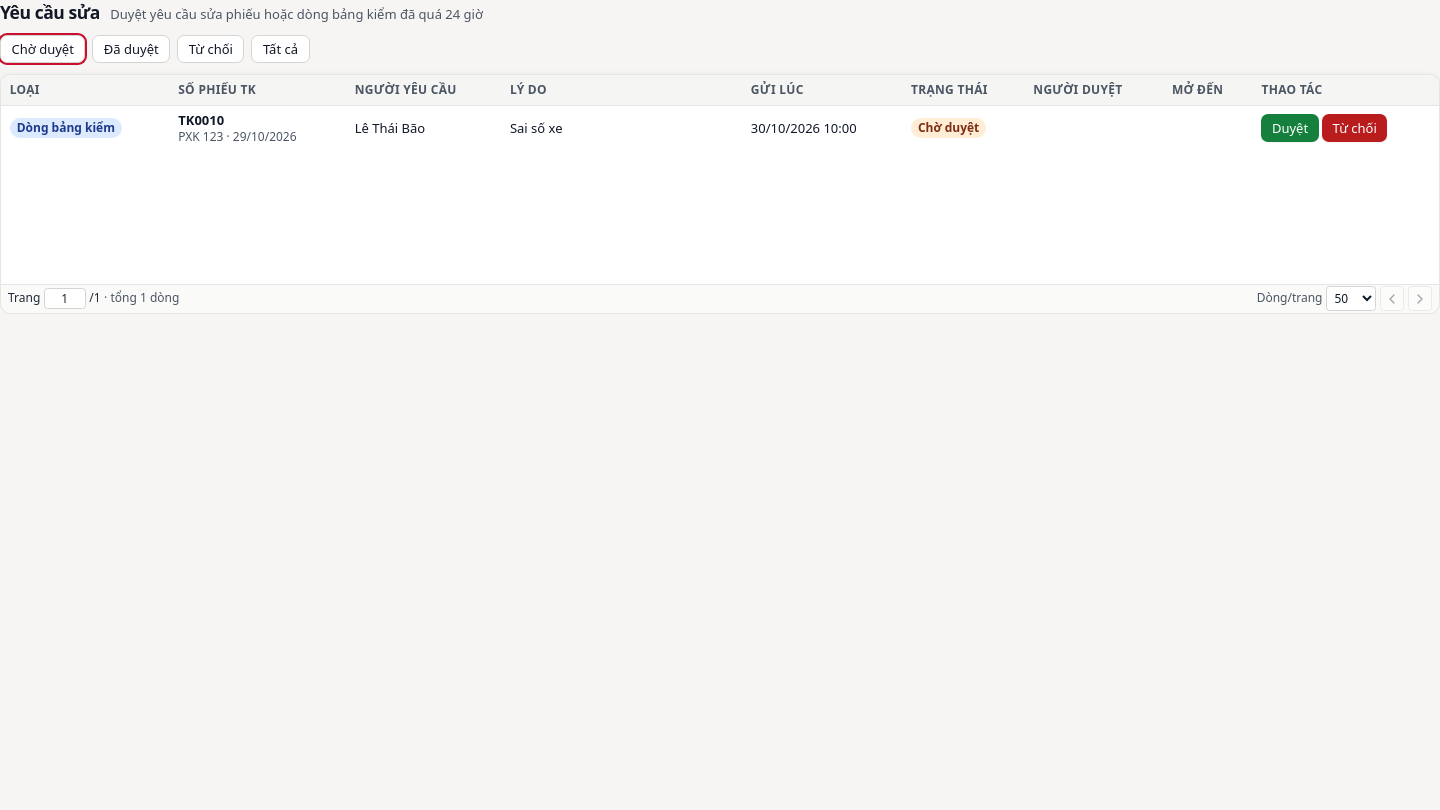
Scenario: EditRequestsPage (D-019) › yêu cầu sửa dòng bảng kiểm: nhãn "Dòng bảng kiểm", TK + PXK + ngày xuất; hộp thoại ghi rõ dòng
The width and height of the screenshot is (1440, 810).
expect the text with test id "kind-1" reads "Dòng bảng kiểm": met, box [17,119,115,136]
expect the text "TK0010" is shown: met, box [178,111,224,129]
What coordinates should you click on to do the following:
click the button with test id "approve-1"
I would click on:
 (1290, 128)
Its box is [1261,114,1319,142].
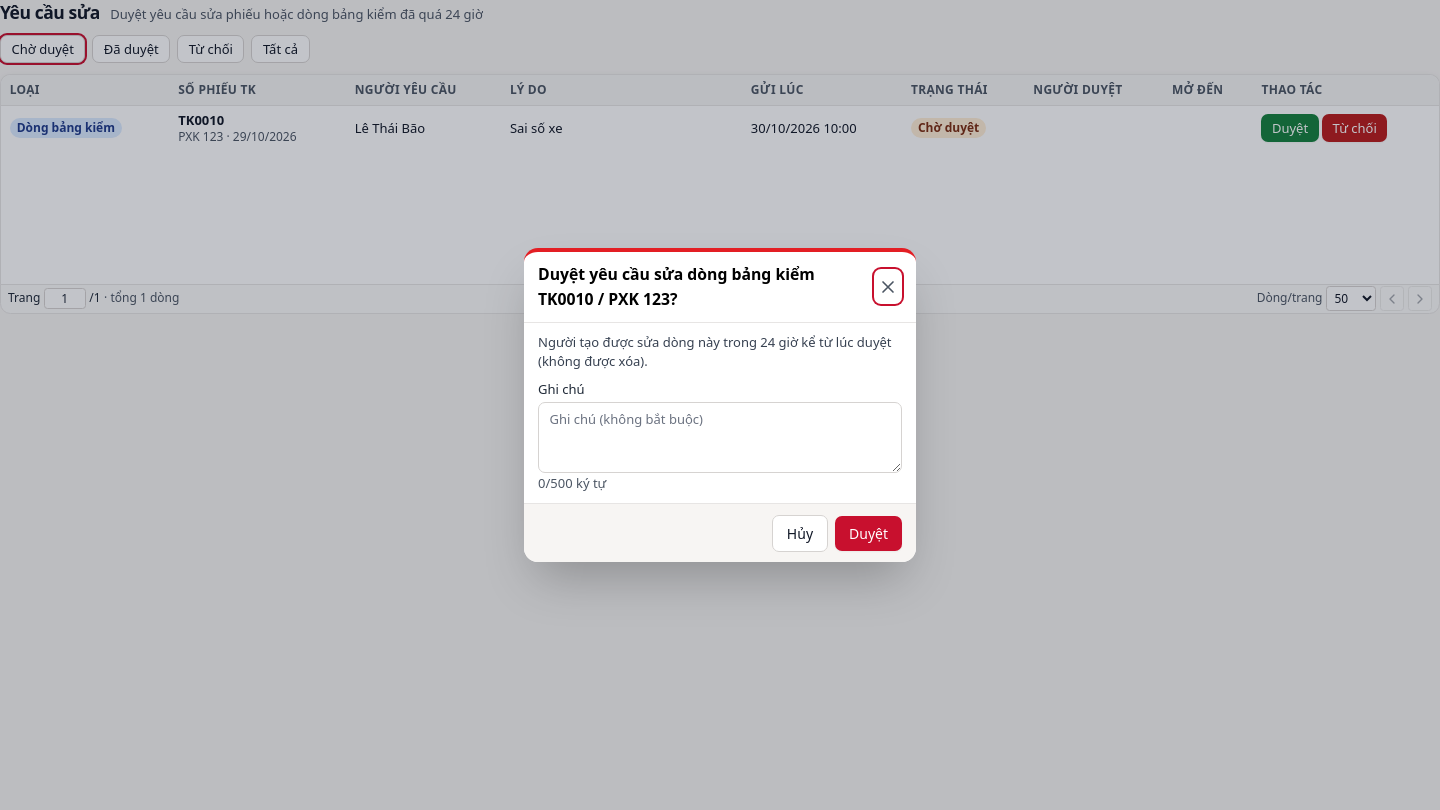
expect the heading "Duyệt yêu cầu sửa dòng bảng kiểm TK0010 / PXK 123?" is shown: met, box [538,263,815,310]
